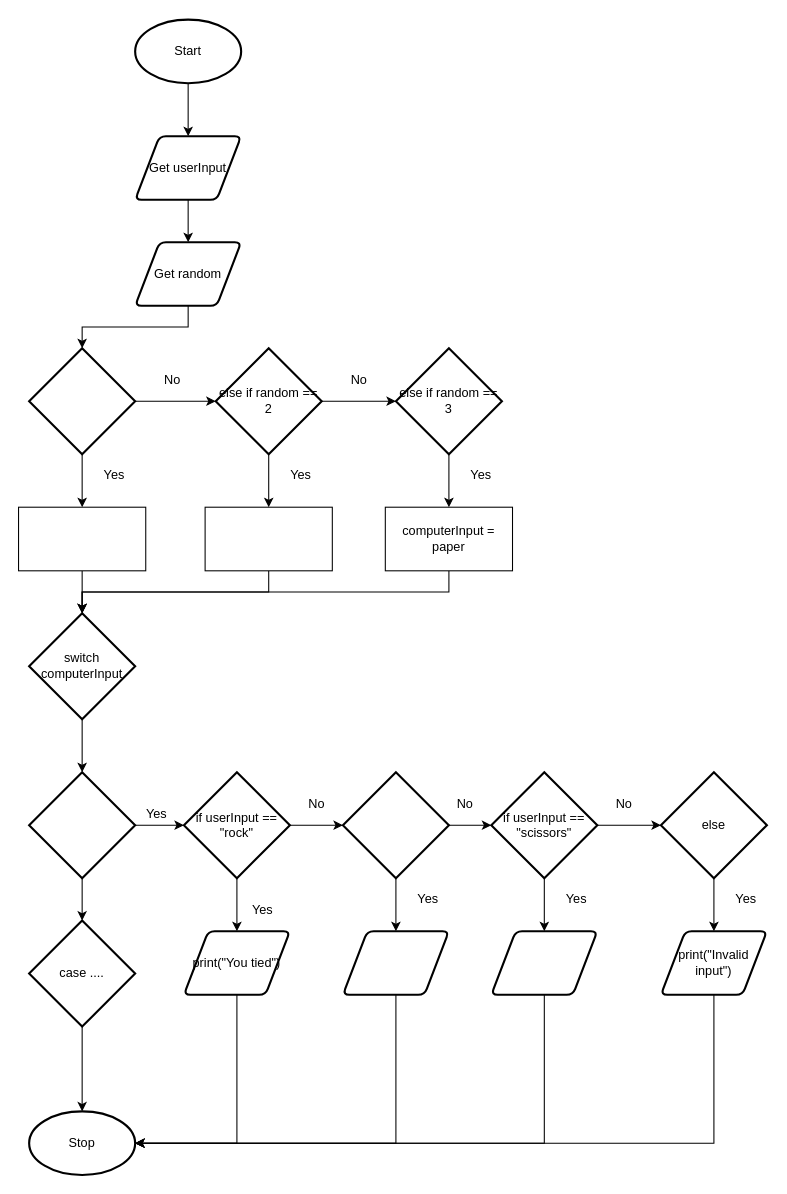
The diagram is 787 pixels wide and 1194 high, and some of its shapes have lost their labels. Here are the shapes that lost their labels. From the top down, the box of each, then its label:
(28, 347, 136, 455): if random == 1
(17, 506, 146, 571): computerInput = scissors
(204, 506, 332, 571): computerInput = rock
(28, 771, 136, 879): Case rock
(341, 771, 449, 879): if userInput == "paper"
(341, 930, 449, 995): print("You lost")
(490, 930, 598, 995): print("You won")
